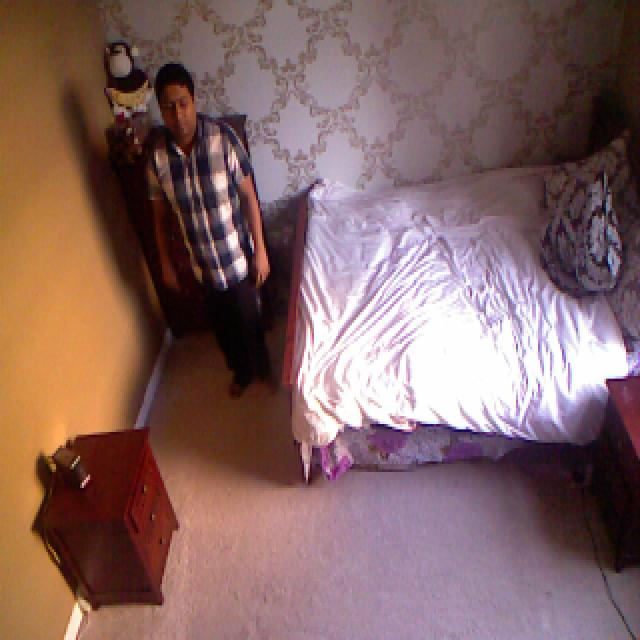standing: (147, 68, 290, 394)
